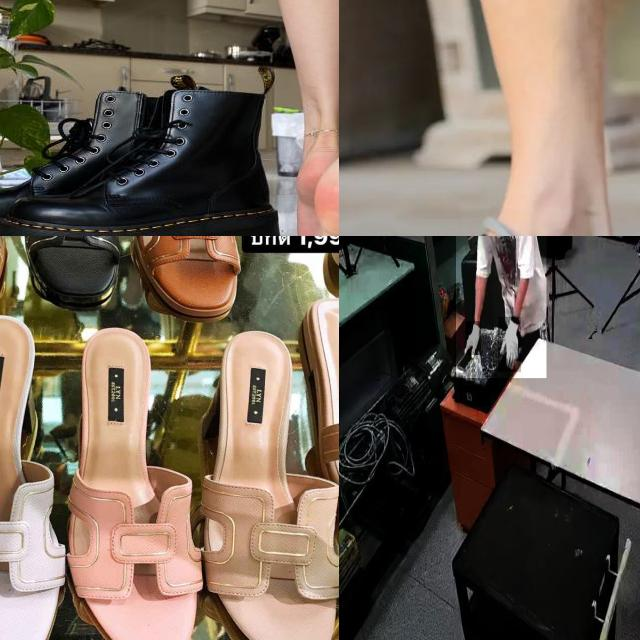Sandals: (61, 298, 217, 640), (189, 307, 339, 640), (0, 308, 79, 640), (288, 282, 339, 569)
hand_glove: (498, 317, 522, 373), (466, 321, 482, 356)
person: (456, 236, 547, 379)
